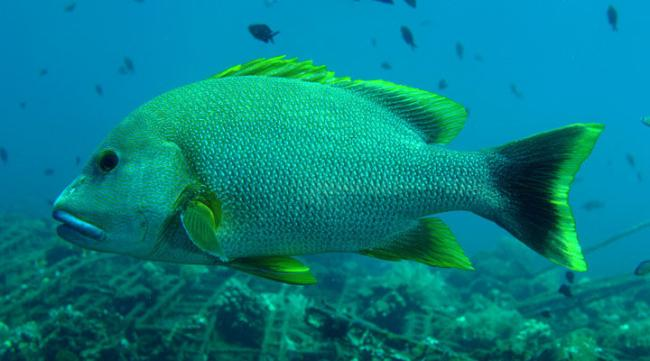fish: (52, 54, 606, 286)
